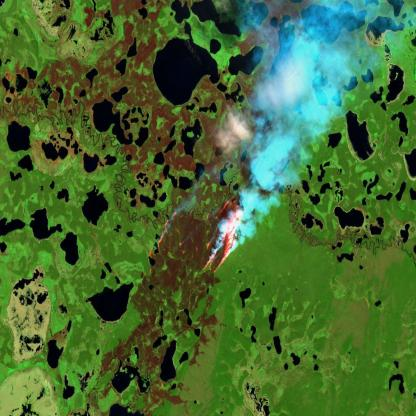fire: (140, 193, 244, 319), (158, 374, 167, 396)
